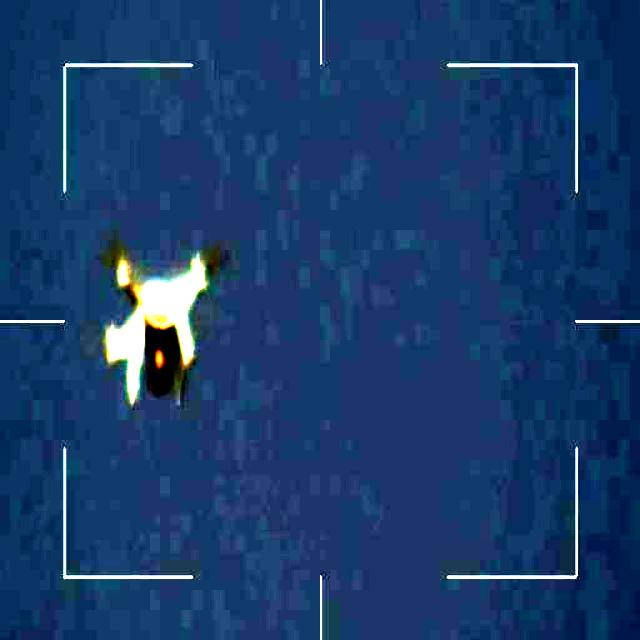bird: (92, 258, 214, 415)
